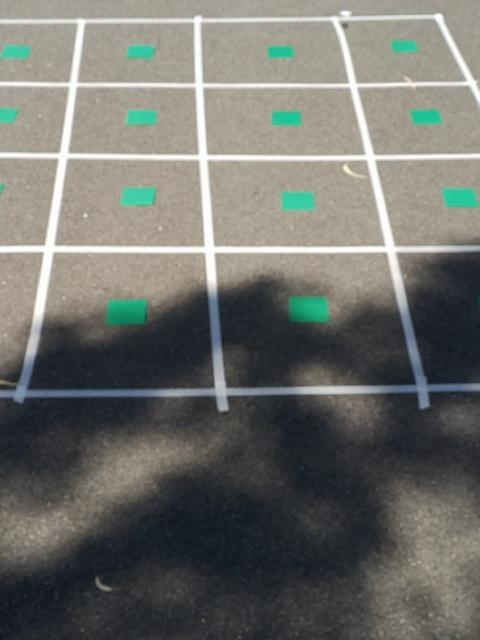weed: (103, 293, 150, 331), (287, 290, 330, 328), (278, 186, 317, 217), (440, 183, 480, 212), (269, 104, 304, 132), (119, 183, 158, 208), (123, 106, 160, 129), (406, 106, 443, 129), (261, 41, 300, 62), (121, 42, 160, 60), (0, 41, 31, 63), (389, 38, 424, 57), (0, 102, 23, 128)
